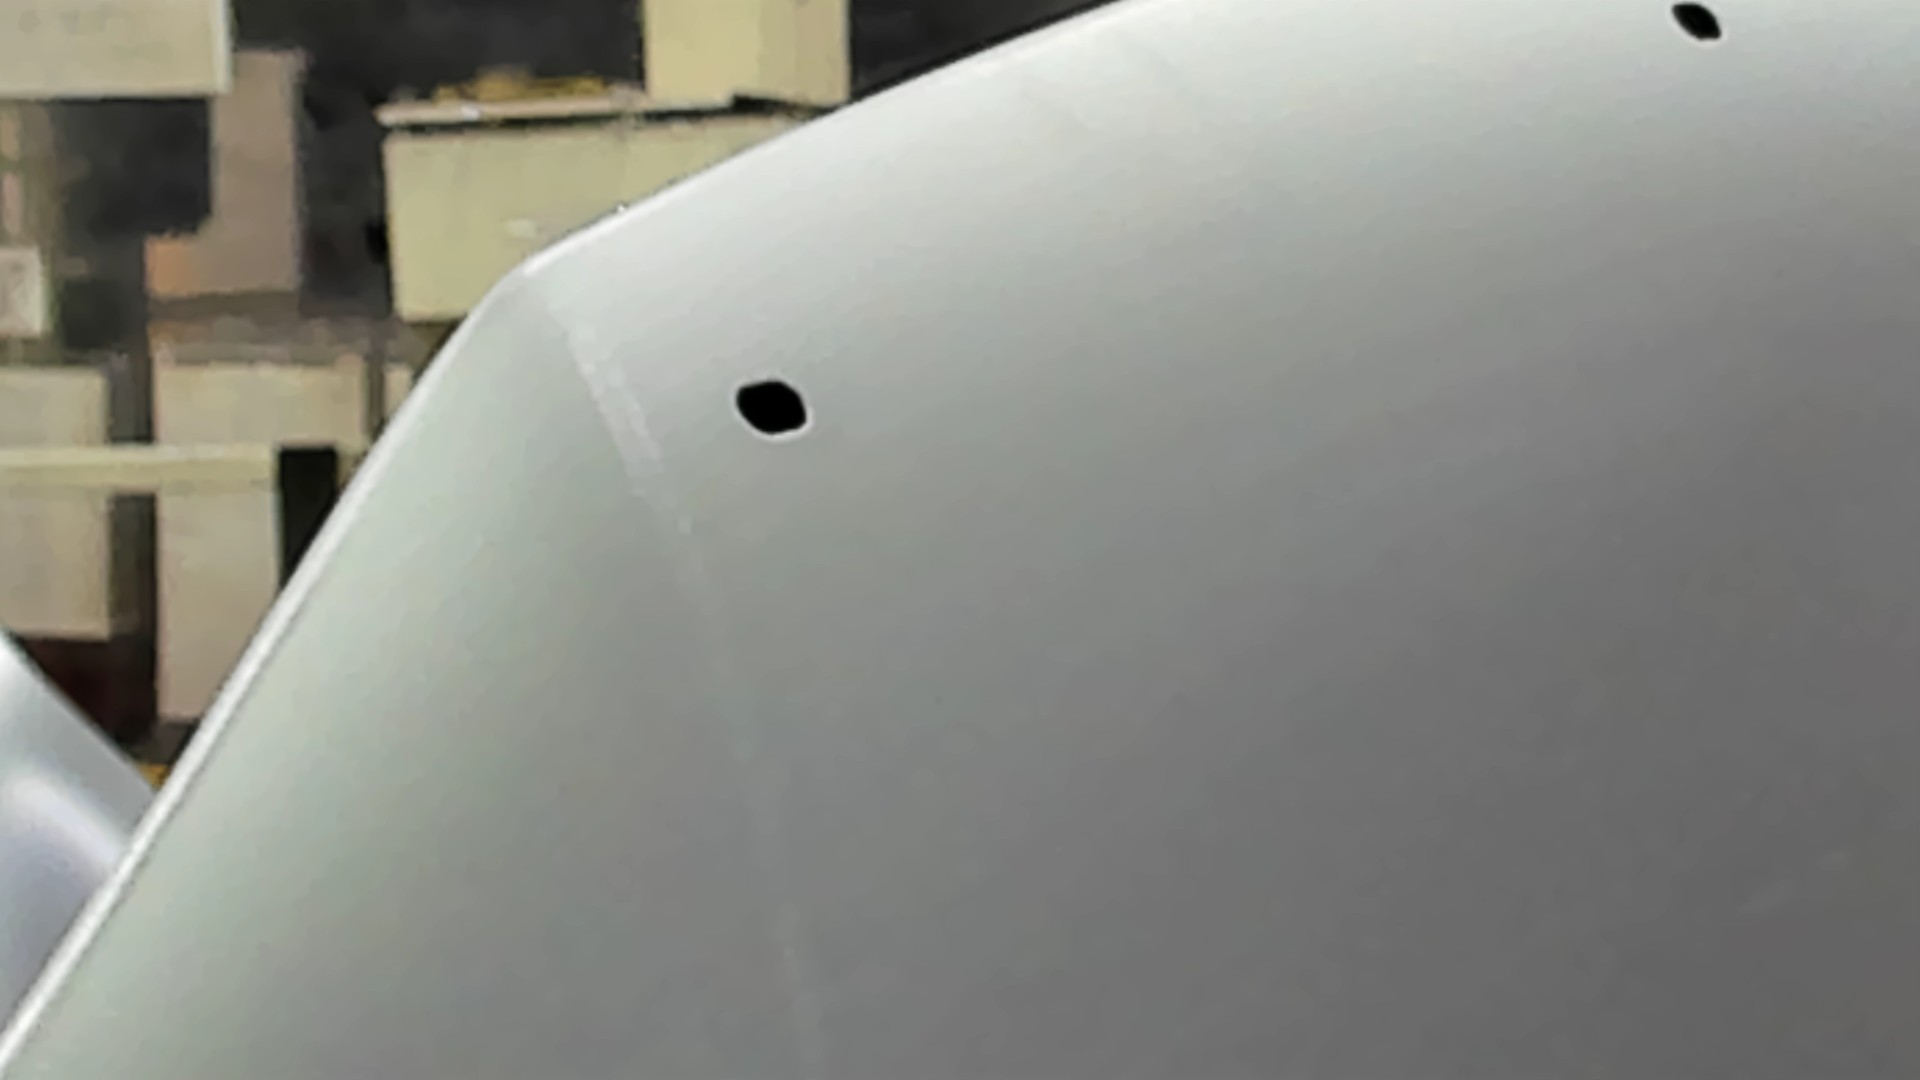amorfo: (727, 372, 816, 442), (1665, 1, 1729, 46)
